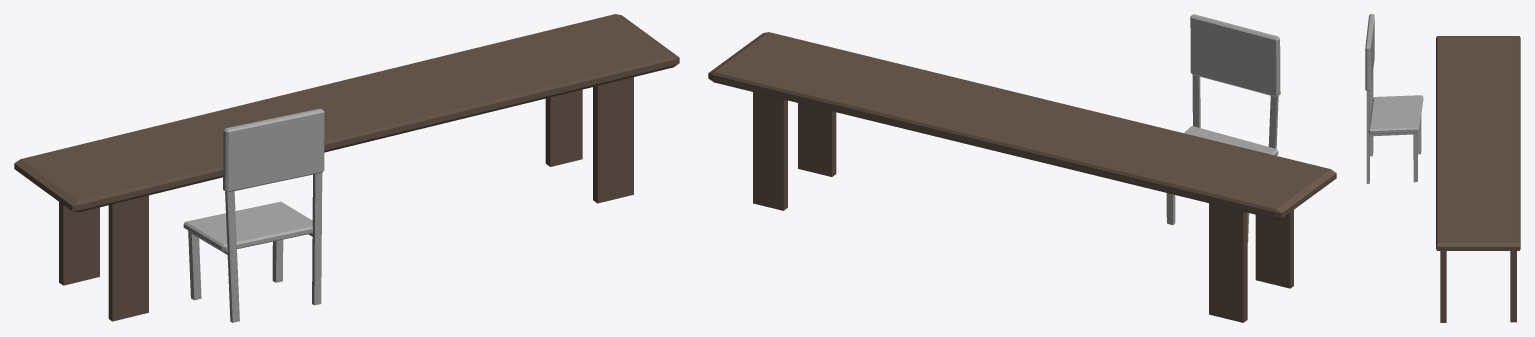
File: table and chair.fbx
The picture shows the model from 3 angles, left to right: view 1: azimuth 30°, elevation 25°; view 2: azimuth 150°, elevation 25°; view 3: azimuth 270°, elevation 25°; orthographic projection. The views are drawn at different scales.
Parts seen in each view (by area): view 1: pasted__pCube1, chair6:pCube2; view 2: pasted__pCube1, chair6:pCube2; view 3: pasted__pCube1, chair6:pCube2.
Part boxes in pixels (left/top/right/bottom): pasted__pCube1: left=14, top=14, right=679, bottom=321; chair6:pCube2: left=183, top=108, right=324, bottom=322; pasted__pCube1: left=708, top=32, right=1336, bottom=322; chair6:pCube2: left=1166, top=14, right=1280, bottom=242; pasted__pCube1: left=1436, top=36, right=1520, bottom=322; chair6:pCube2: left=1365, top=14, right=1423, bottom=183.
Bounding box in the file's own units: 7.83 × 2.61 × 2.44.
